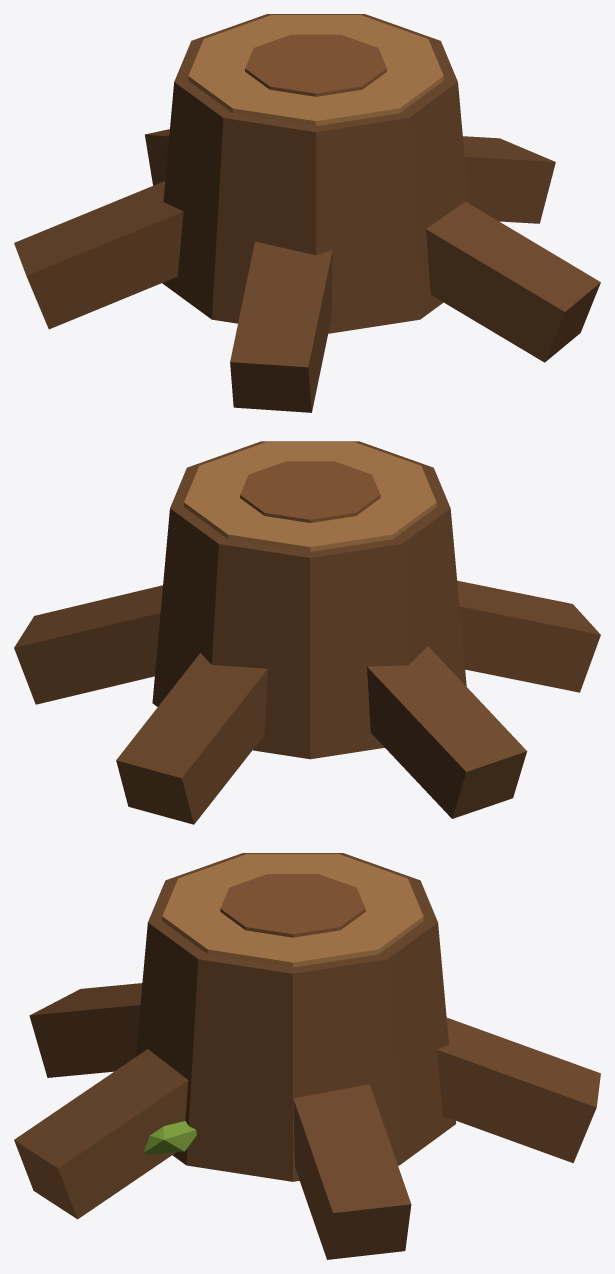
File: Stump.fbx
3 renders of one model, top to bottom at view 1: azimuth 30°, elevation 25°; view 2: azimuth 150°, elevation 25°; view 3: azimuth 270°, elevation 25°, orthographic. The views are drawn at different scales.
Parts seen in each view (by area): view 1: Stump; view 2: Stump; view 3: Stump.
Part boxes in pixels (<box>): Stump: <box>14,14,600,412</box>; Stump: <box>14,441,600,824</box>; Stump: <box>14,853,600,1259</box>.
Size of the model in its own units: 1.65 by 0.7093 by 1.59.
